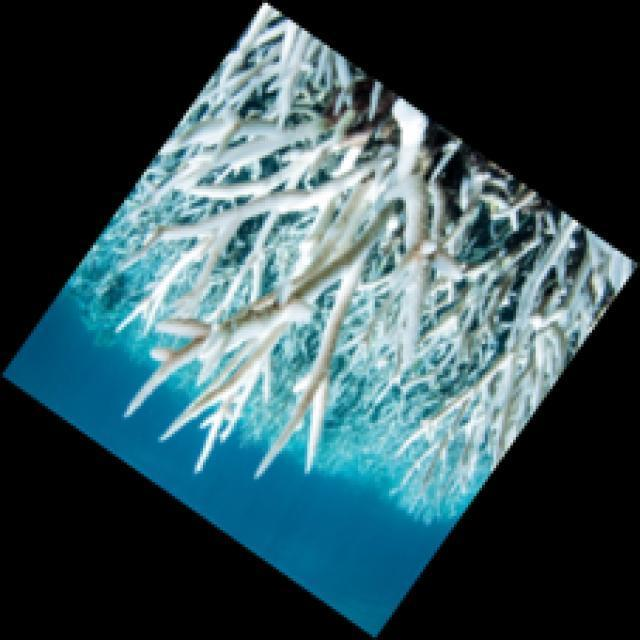Bleached: (94, 1, 640, 469)
